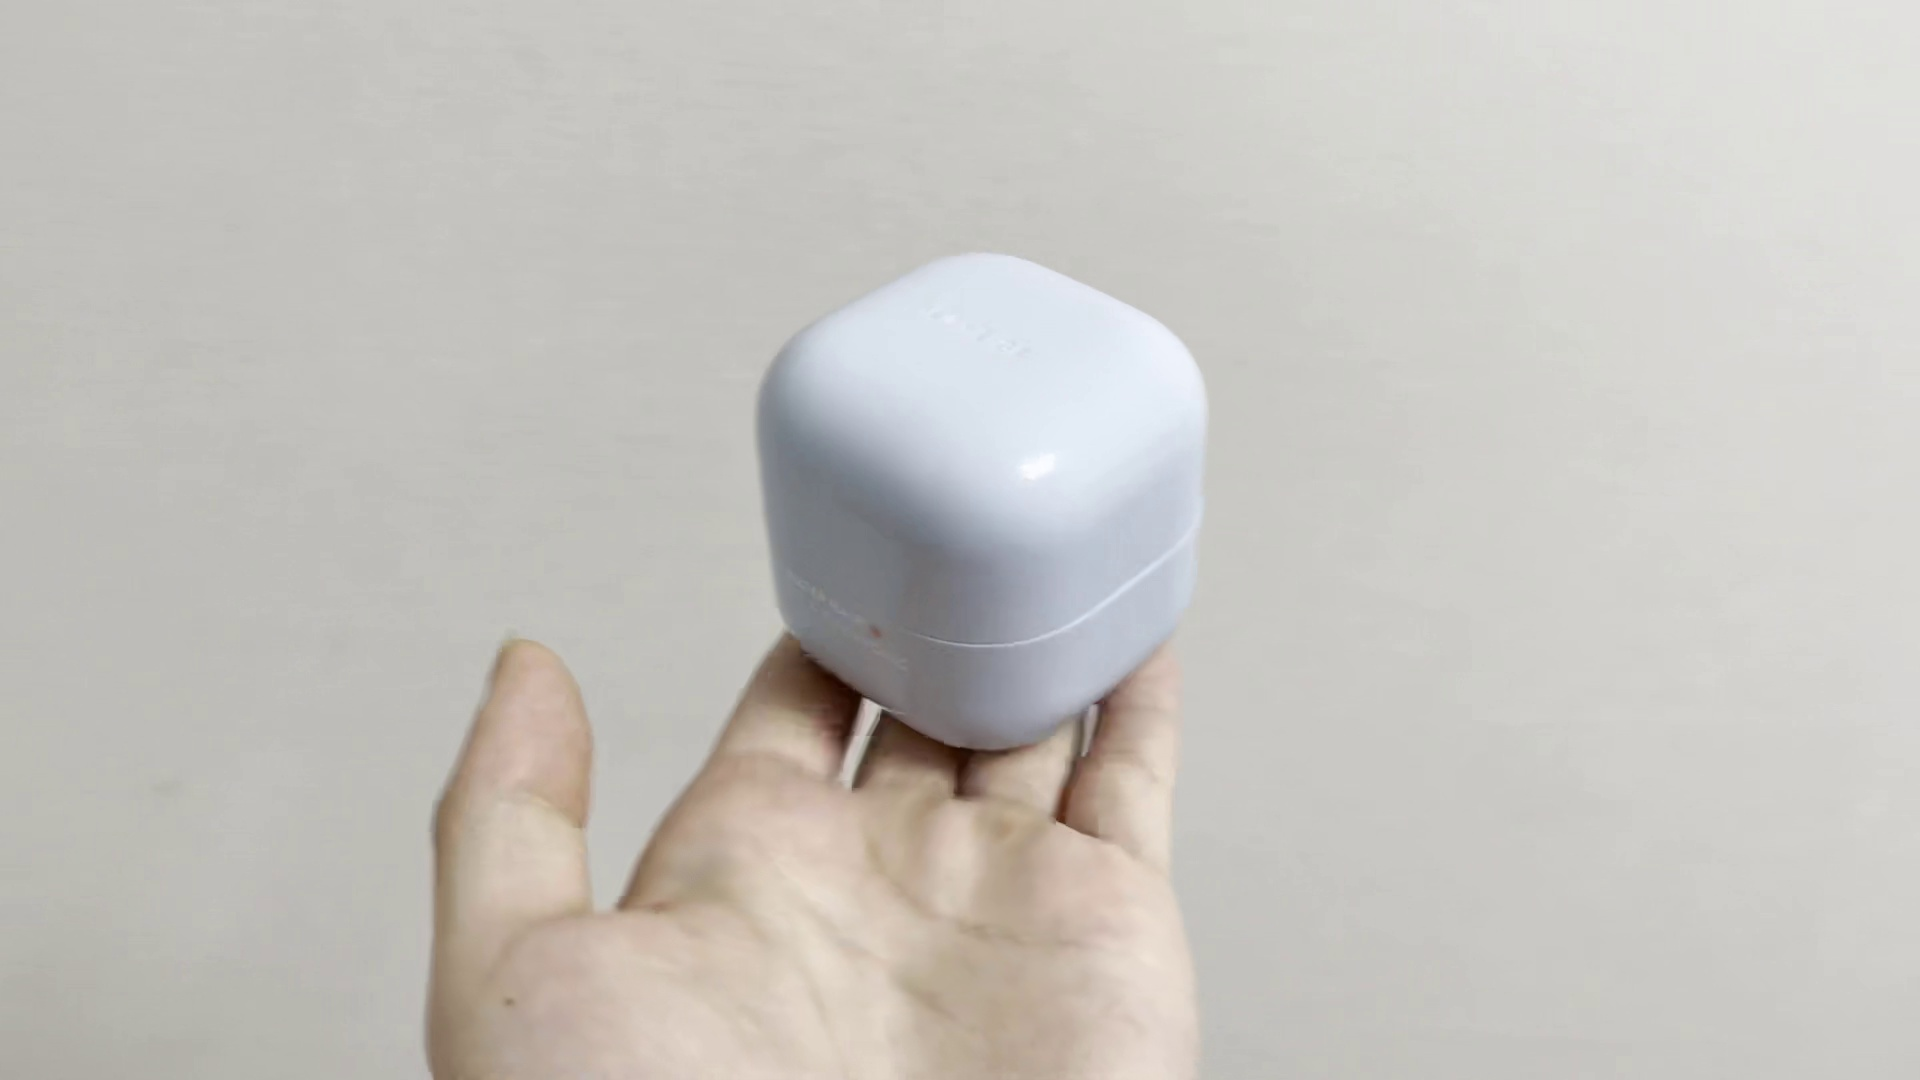cream: (758, 251, 1207, 744)
